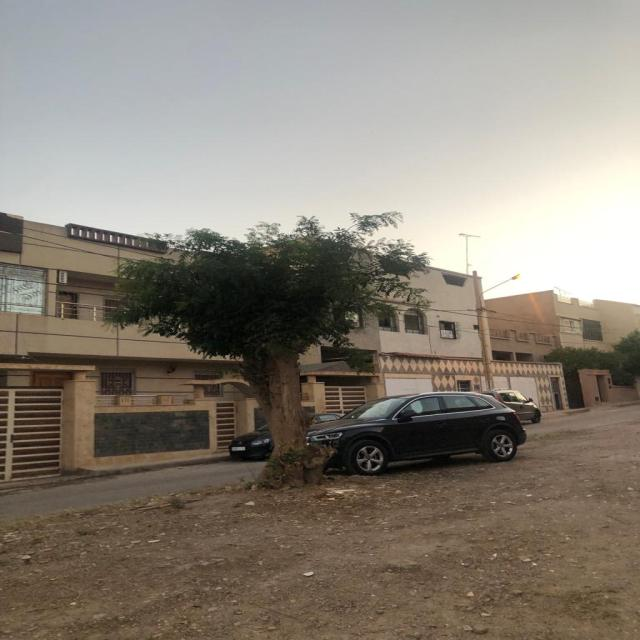Car: (308, 392, 527, 475)
Electric pole: (472, 271, 494, 390)
Tree: (109, 212, 428, 489)
